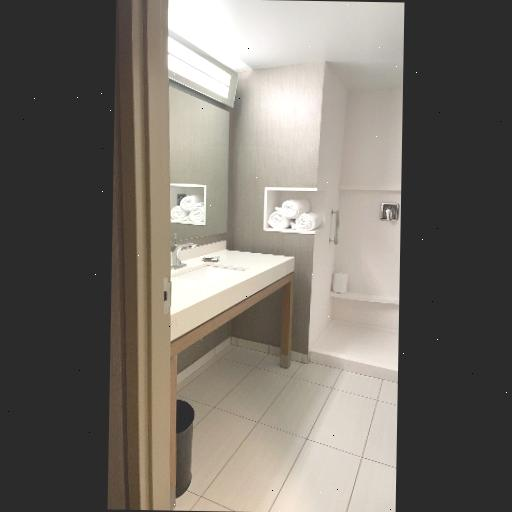clean_floor: (176, 340, 398, 512)
clean_sink: (170, 234, 298, 341)
folded_towel: (266, 190, 326, 233)
